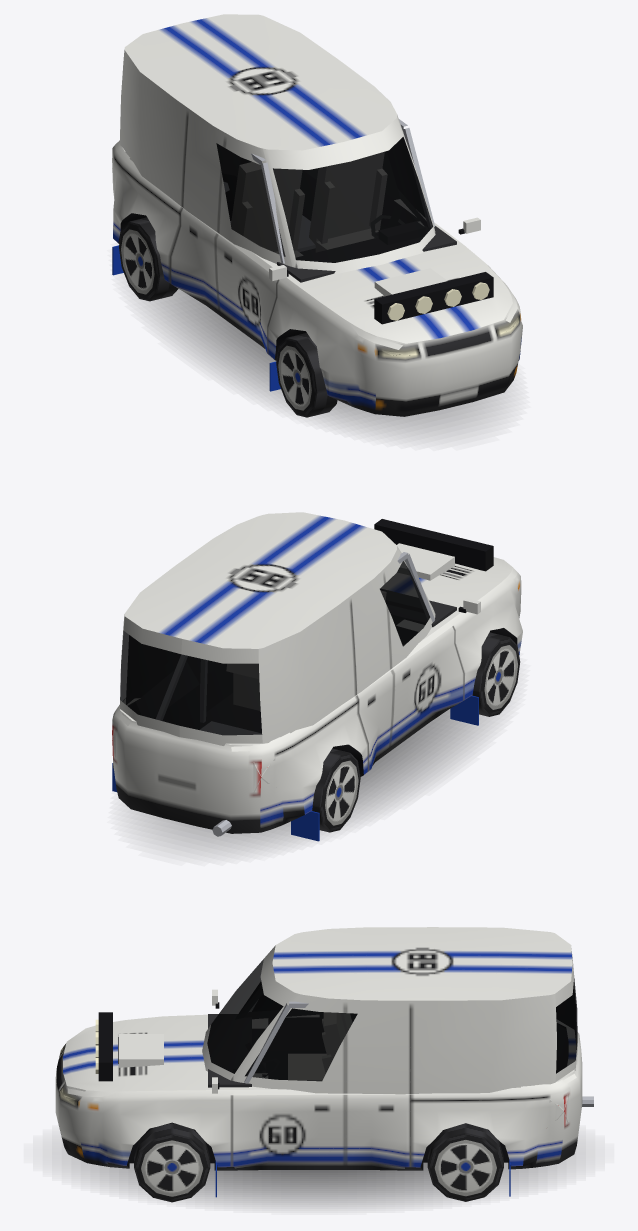
The model's file is lestada.glb.
3 renders of one model, top to bottom at view 1: azimuth 30°, elevation 25°; view 2: azimuth 150°, elevation 25°; view 3: azimuth 270°, elevation 25°, orthographic. The views are drawn at different scales.
Parts seen in each view (by area): view 1: Carroceria, Interior, Capo_malha, Porta_D_malha, Sombra, Porta_TD_malha, Roda_DD, Roda_TD, Porta_E_malha; view 2: Carroceria, Tampa_D_malha, Interior, Tampa_E_malha, Sombra, Porta_D_malha, Capo_malha, Porta_TD_malha, Roda_TD, Roda_DD; view 3: Carroceria, Porta_E_malha, Sombra, Porta_TE_malha, Capo_malha, Interior, Roda_DE, Roda_TE, Tampa_E_malha, Tampa_D_malha.
Part boxes in pixels (x1,y1,x2,y2): Carroceria: [112, 14, 522, 416]; Interior: [217, 119, 456, 282]; Capo_malha: [310, 251, 517, 349]; Porta_D_malha: [215, 133, 292, 353]; Sombra: [143, 289, 505, 436]; Porta_TD_malha: [170, 108, 225, 307]; Roda_DD: [276, 333, 337, 417]; Roda_TD: [119, 217, 178, 301]; Porta_E_malha: [389, 114, 434, 229]; Carroceria: [112, 512, 522, 841]; Tampa_D_malha: [177, 639, 262, 815]; Interior: [126, 552, 456, 734]; Tampa_E_malha: [117, 616, 181, 803]; Sombra: [135, 709, 495, 851]; Porta_D_malha: [383, 548, 464, 743]; Capo_malha: [374, 519, 517, 603]; Porta_TD_malha: [350, 569, 393, 770]; Roda_TD: [312, 748, 360, 832]; Roda_DD: [472, 632, 520, 716]; Carroceria: [55, 927, 593, 1197]; Porta_E_malha: [232, 994, 345, 1167]; Sombra: [61, 1142, 576, 1206]; Porta_TE_malha: [345, 999, 410, 1167]; Capo_malha: [67, 1012, 191, 1096]; Interior: [208, 985, 567, 1087]; Roda_DE: [134, 1123, 210, 1202]; Roda_TE: [427, 1123, 503, 1201]; Tampa_E_malha: [555, 964, 582, 1142]; Tampa_D_malha: [556, 948, 582, 1069].
Bounding box in the file's own units: 2.52 × 1.8 × 5.11.
Materials: 14 (5 with a texture image).
